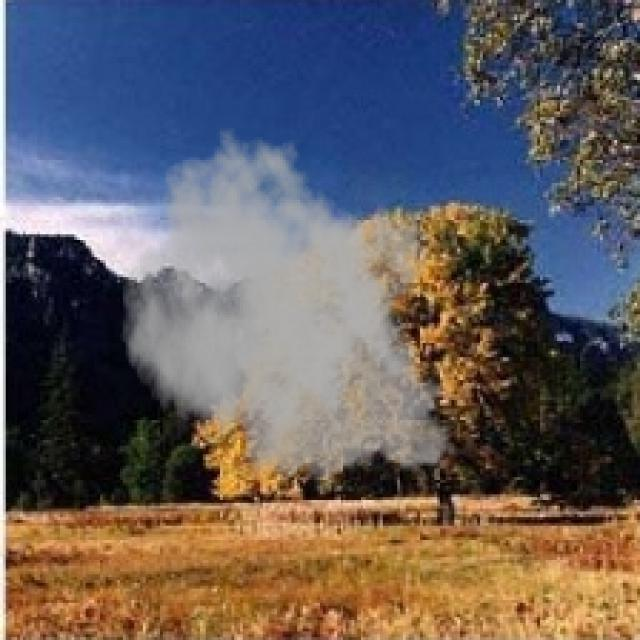smoke: (120, 126, 466, 491)
